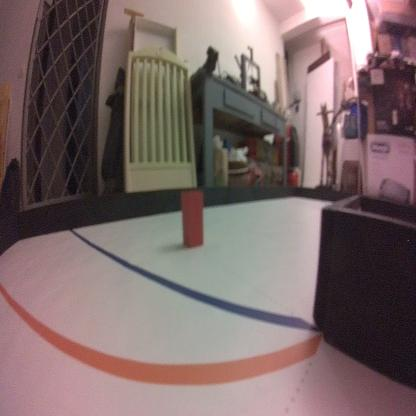red: (179, 187, 205, 249)
